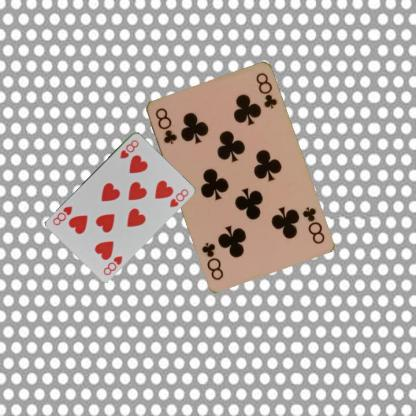8c: (299, 204, 326, 245), (152, 104, 178, 146)
8h: (100, 253, 124, 276), (117, 137, 140, 159)
